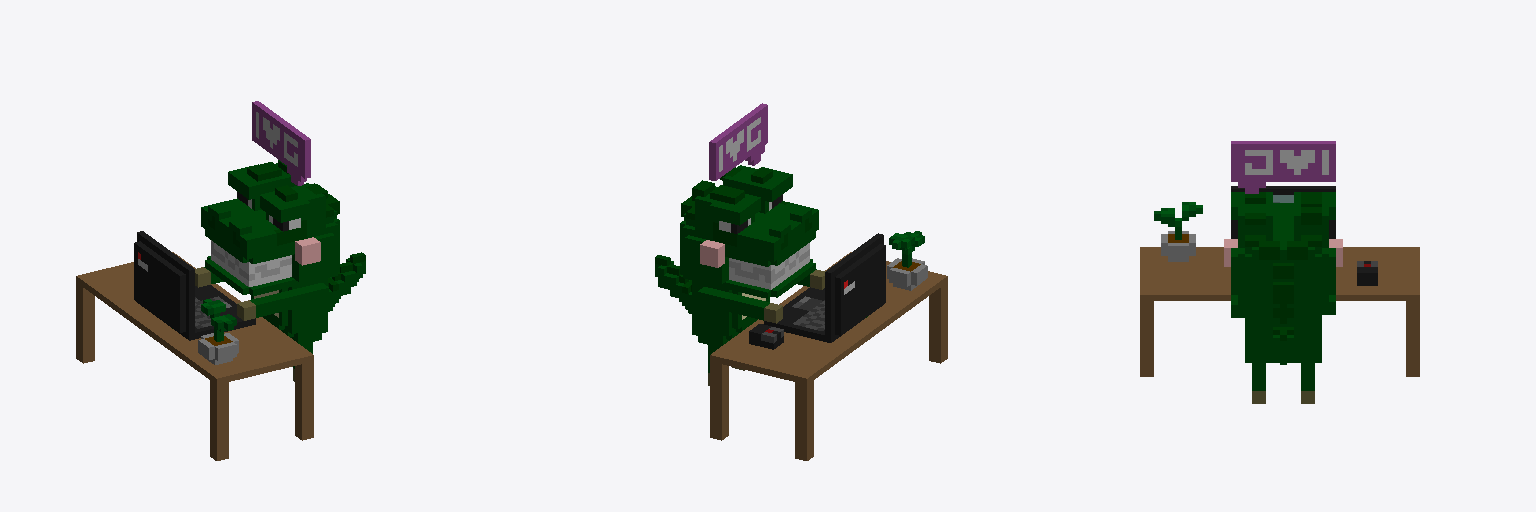
3 views of the same model, side by side, from view 1: azimuth 30°, elevation 25°; view 2: azimuth 150°, elevation 25°; view 3: azimuth 270°, elevation 25° (orthographic).
Visible parts, largest first — view 1: object 1; view 2: object 1; view 3: object 1.
Boxes of the visible parts, <box> form: object 1: <box>76,101,365,460</box>; object 1: <box>655,103,947,460</box>; object 1: <box>1140,141,1419,403</box>.
Bounding box in the file's own units: 3.6 × 4 × 4.
1 materials, 1 textured.